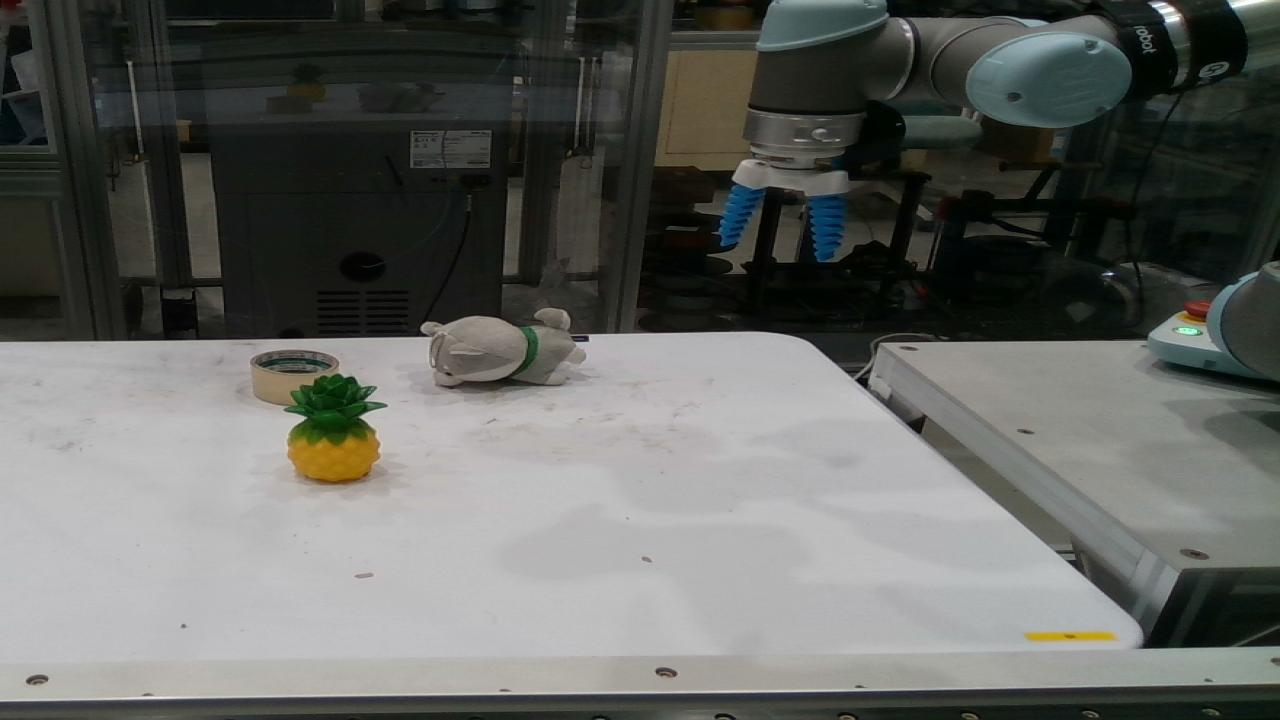UR5: (733, 0, 1279, 198), (1206, 258, 1279, 383)
gripper_left: (720, 184, 763, 244)
gripper_right: (810, 194, 843, 261)
target: (421, 308, 587, 388), (283, 373, 390, 482), (250, 349, 340, 405)
